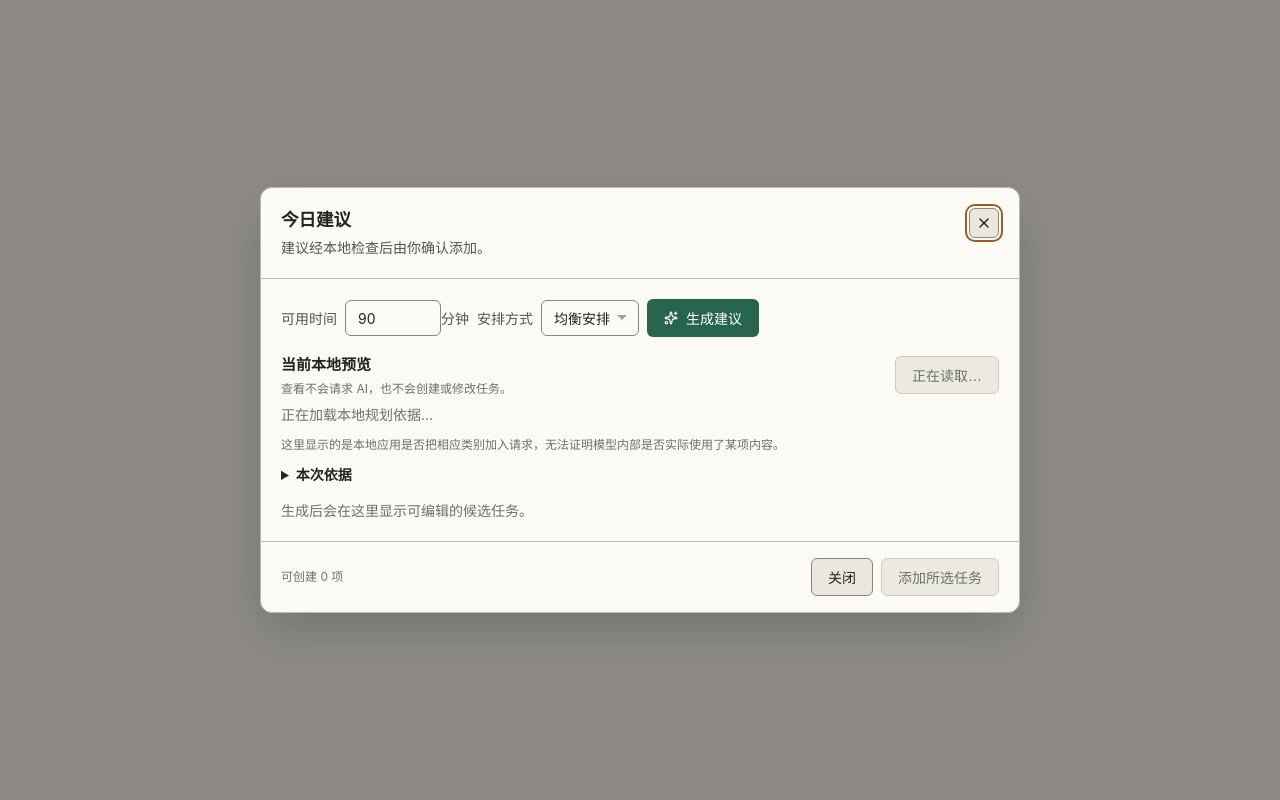
Test: TodayActionSuggestionDialog › generates validated suggestions and creates selected tasks only after user confirmation
Click the button with test id "ai-plan-generate": (703, 318) [647,299,759,337]
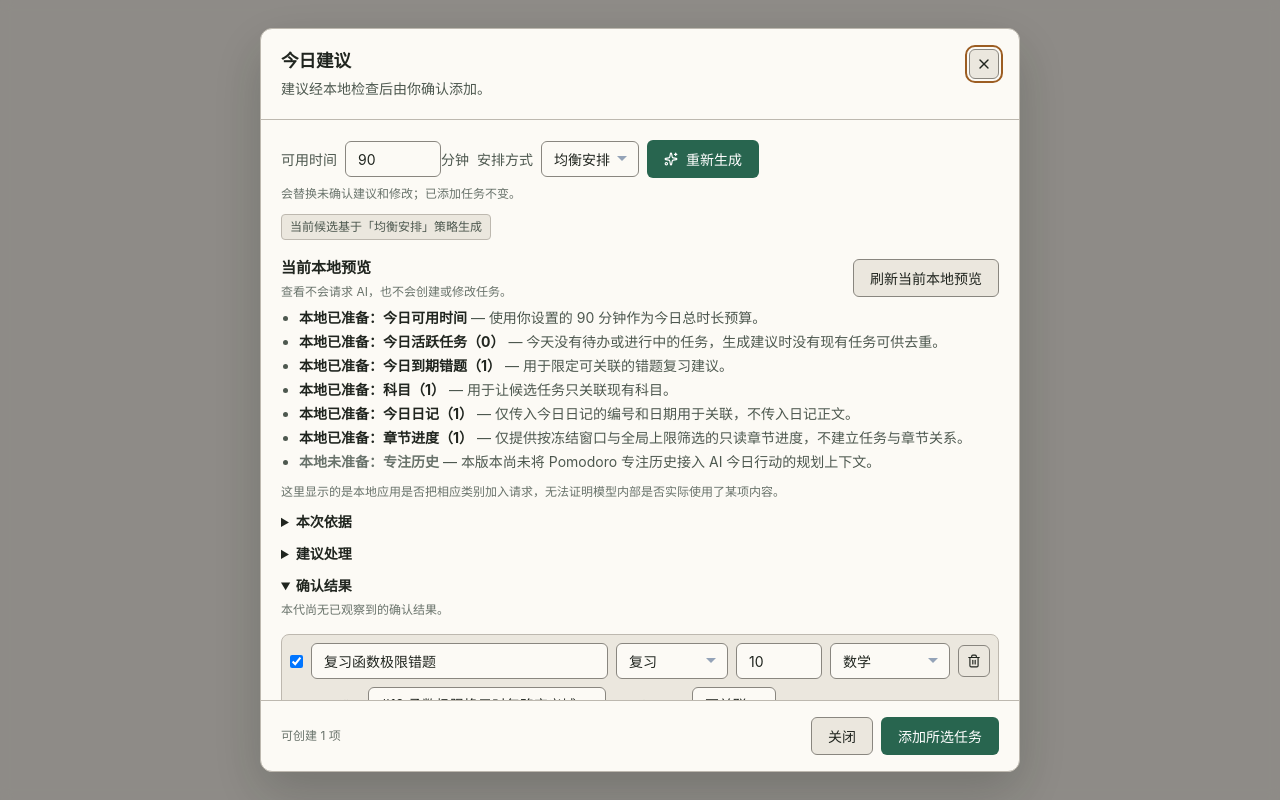
Check: the field showing "复习函数极限错题" is shown, box [311,643,608,679]
Click the button with test id "ai-plan-create-selected": (940, 736) [881,717,999,755]
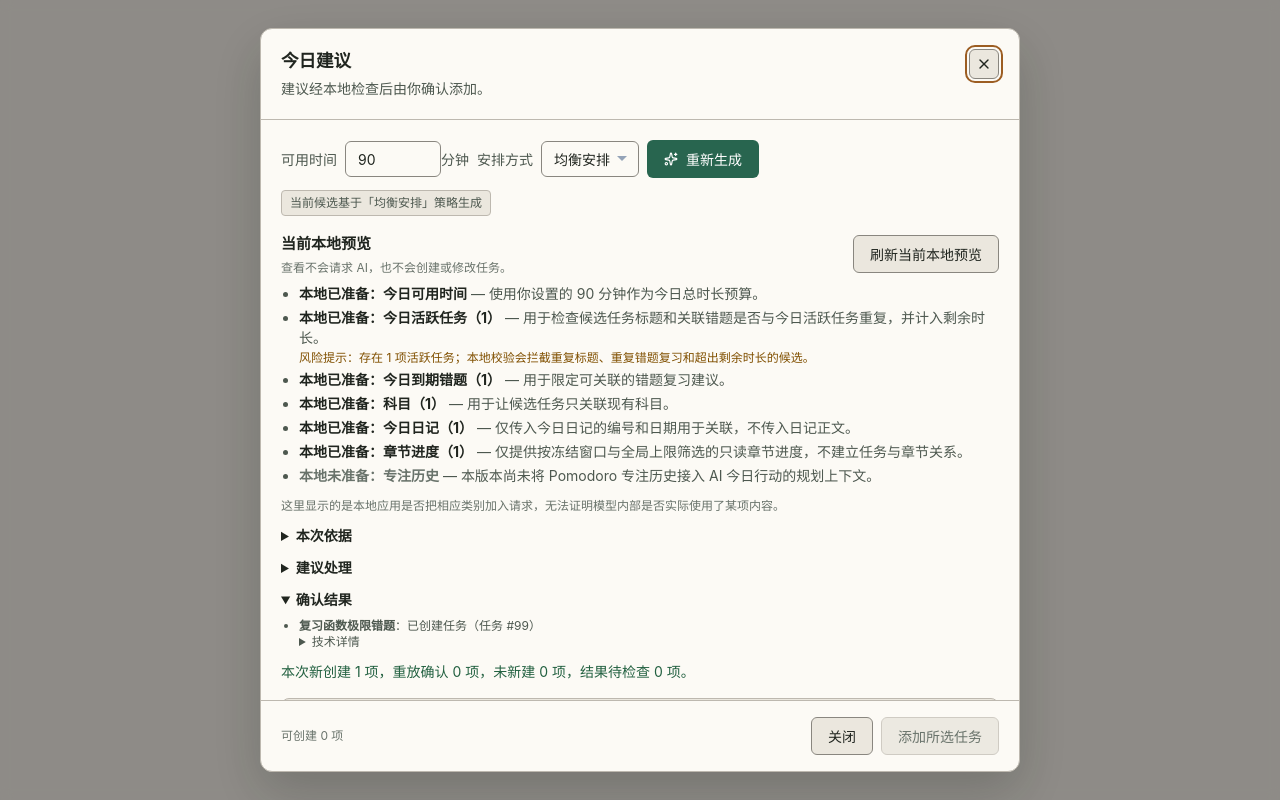
Check: the list item with test id "today-action-confirmed-outcome-suggestion-1" shows "已创建任务", box [407,618,467,633]
